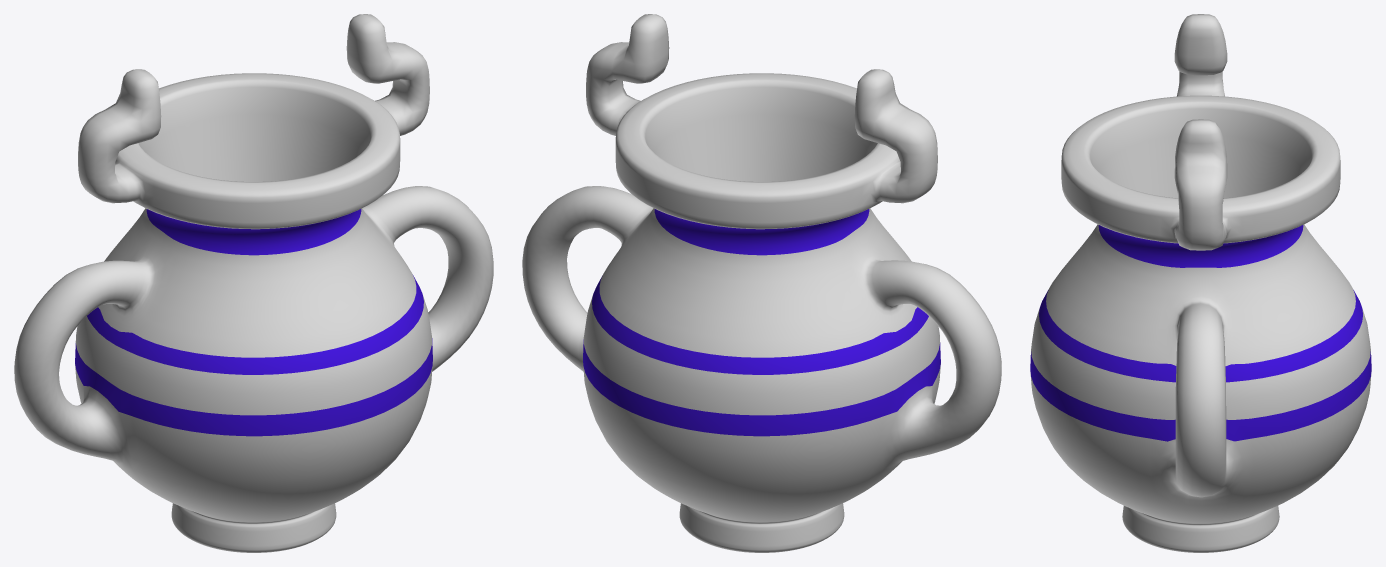
File: Gust Jar.fbx
3 views of the same model, side by side, from view 1: azimuth 30°, elevation 25°; view 2: azimuth 150°, elevation 25°; view 3: azimuth 270°, elevation 25° (orthographic). The views are drawn at different scales.
Visible parts, largest first — view 1: GustJar_Bottom, GustJar_Top; view 2: GustJar_Bottom, GustJar_Top; view 3: GustJar_Bottom, GustJar_Top.
Part boxes in pixels (x1,y1,x2,y2): GustJar_Bottom: (14,186,493,552); GustJar_Top: (78,14,429,229); GustJar_Bottom: (522,186,1001,552); GustJar_Top: (586,14,937,229); GustJar_Bottom: (1030,224,1371,552); GustJar_Top: (1061,14,1340,250).
Size of the model in its own units: 442 by 427 by 291.
